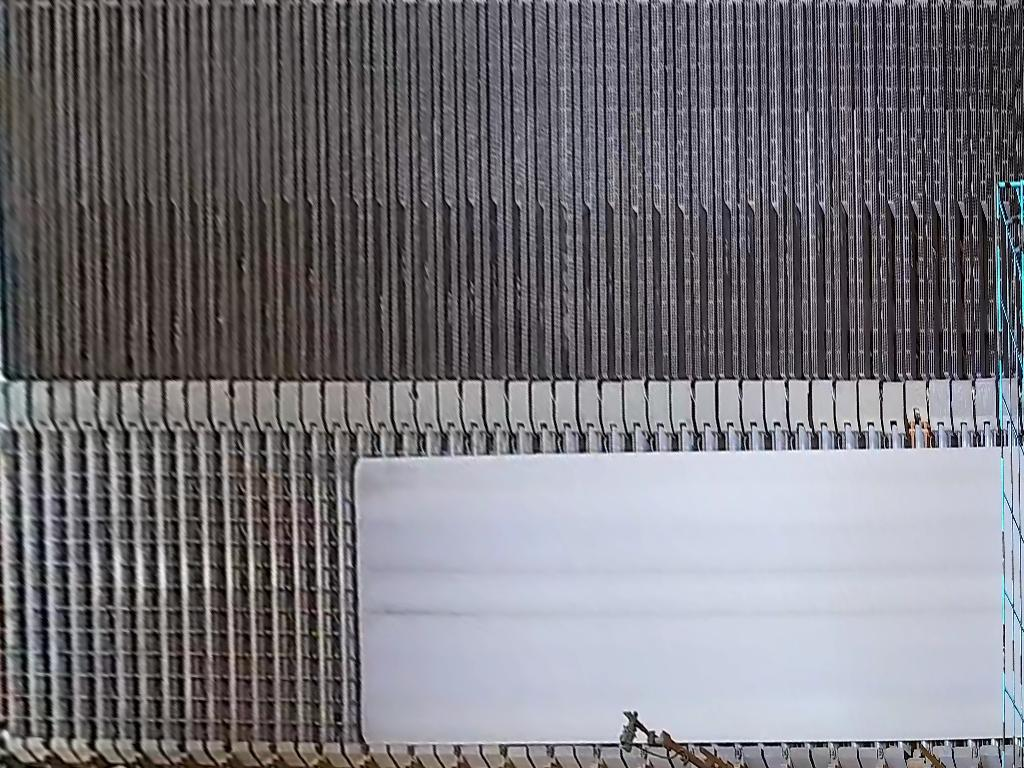steel: (354, 444, 1024, 745)
